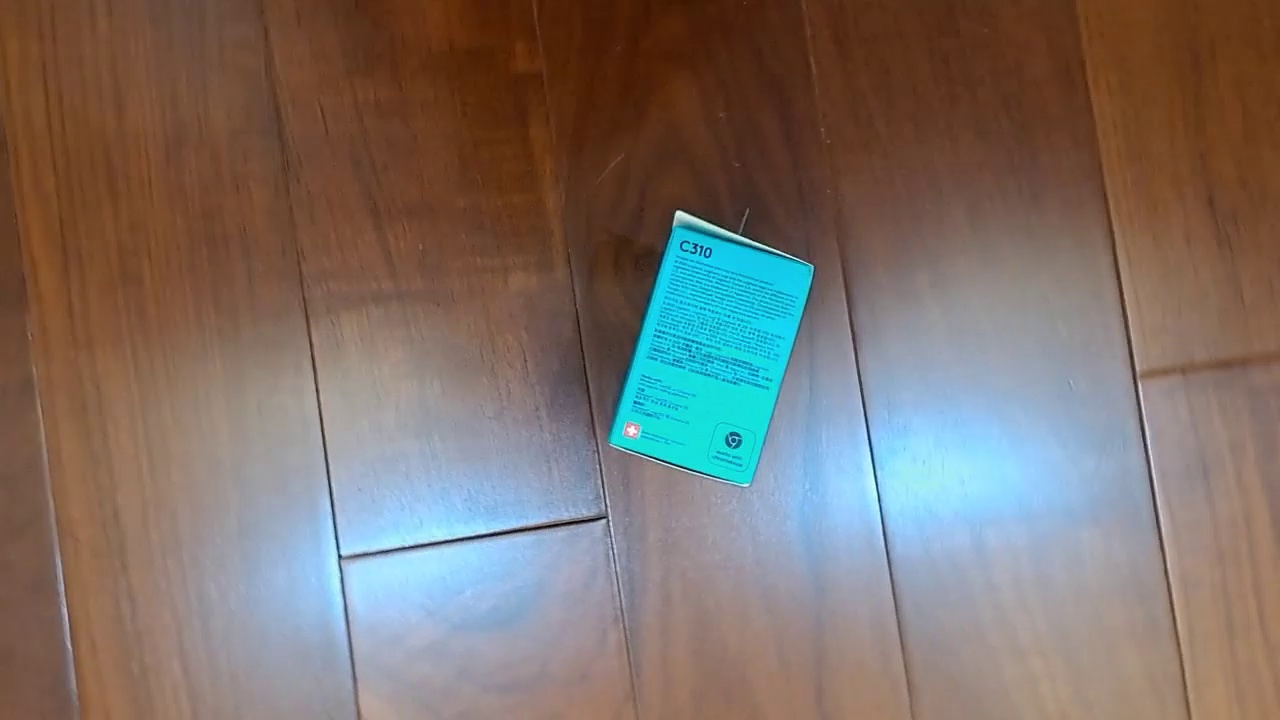webcam: (605, 207, 817, 489)
